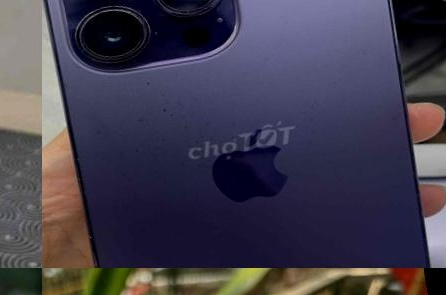scratch: (61, 0, 153, 70), (133, 72, 206, 159), (141, 0, 236, 27), (295, 98, 334, 160), (352, 37, 397, 83), (125, 140, 151, 169), (152, 261, 182, 268)
